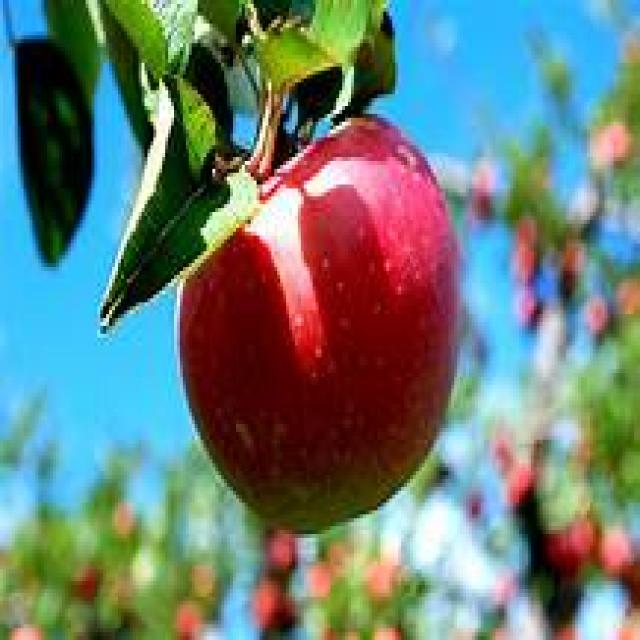apple: (174, 114, 457, 535)
